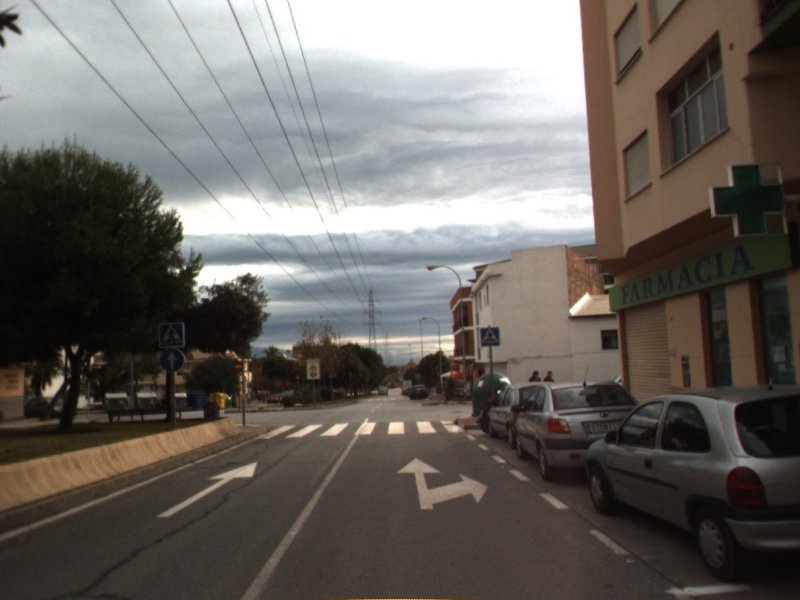STRAIGHT: (154, 459, 259, 519)
STRAIGHT_RIGHT: (395, 455, 490, 512)
